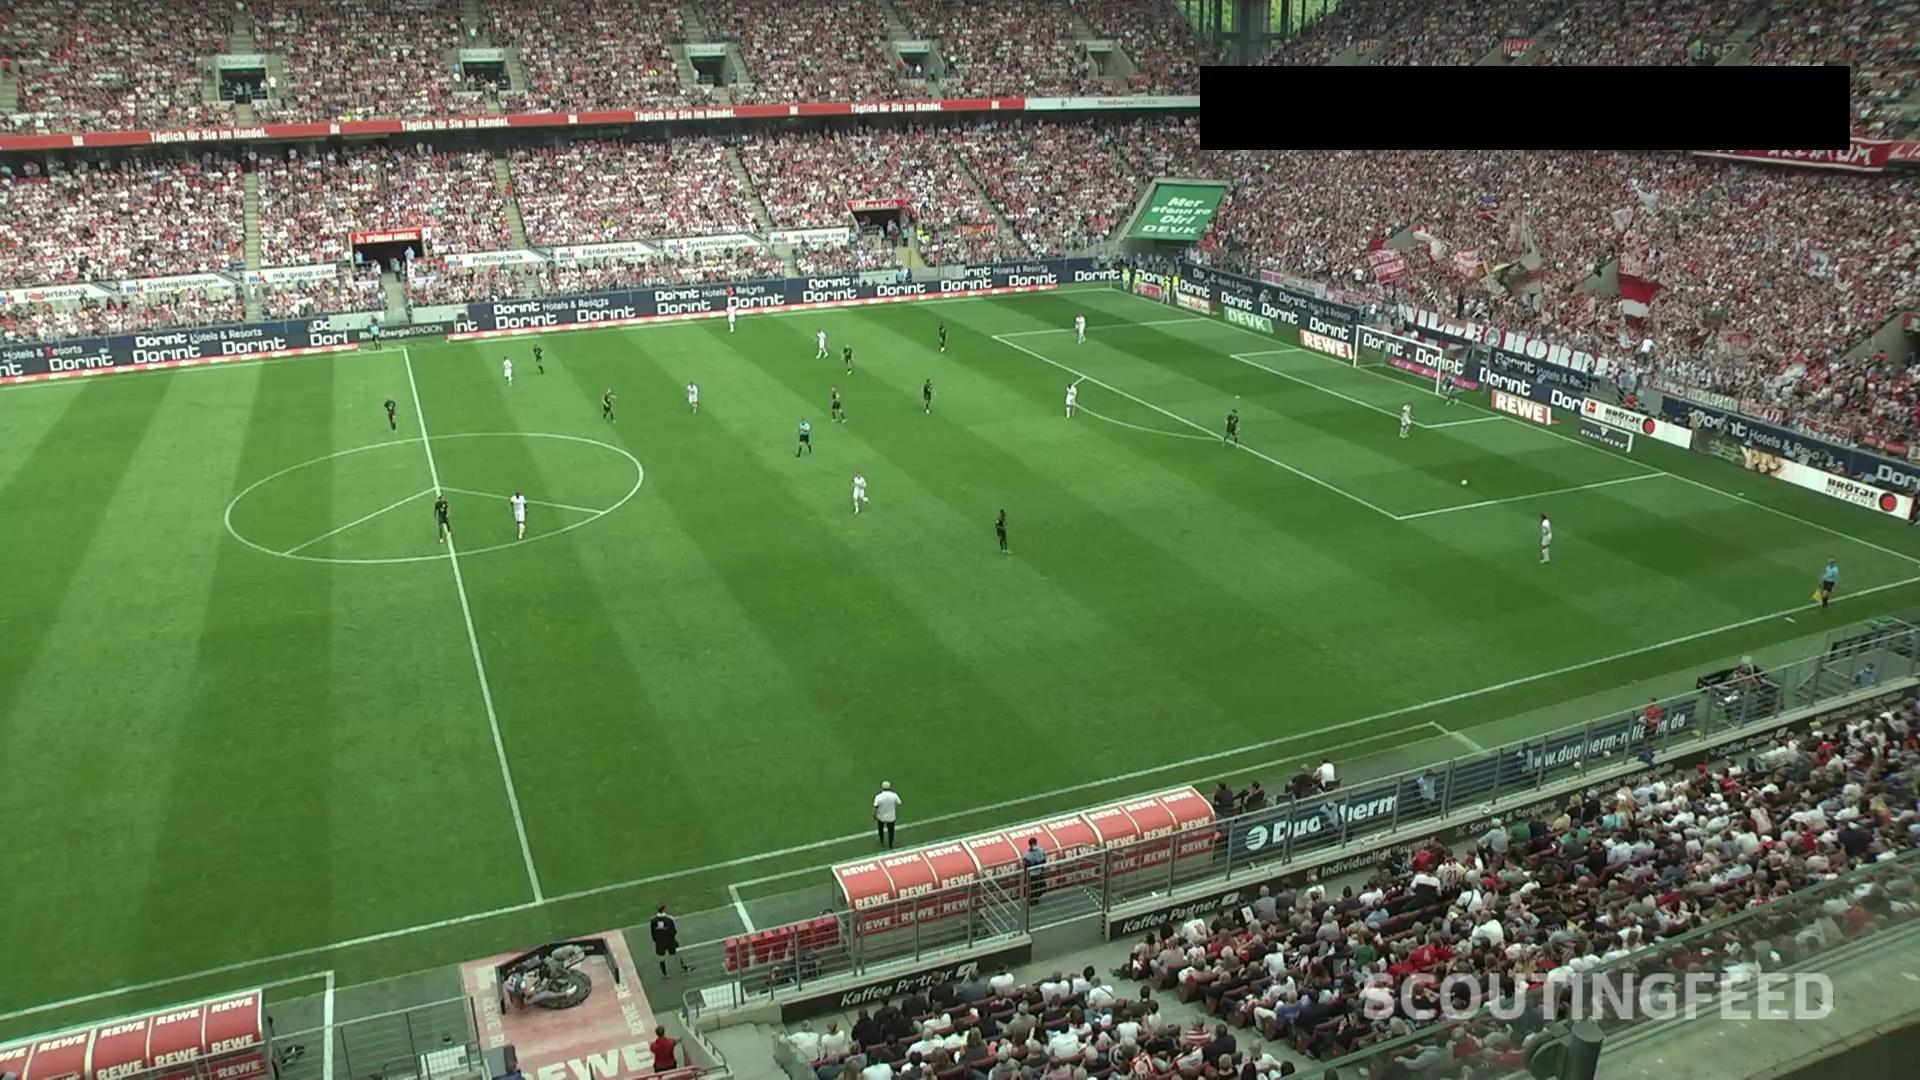Location-of-ball: (1451, 468, 1477, 495)
